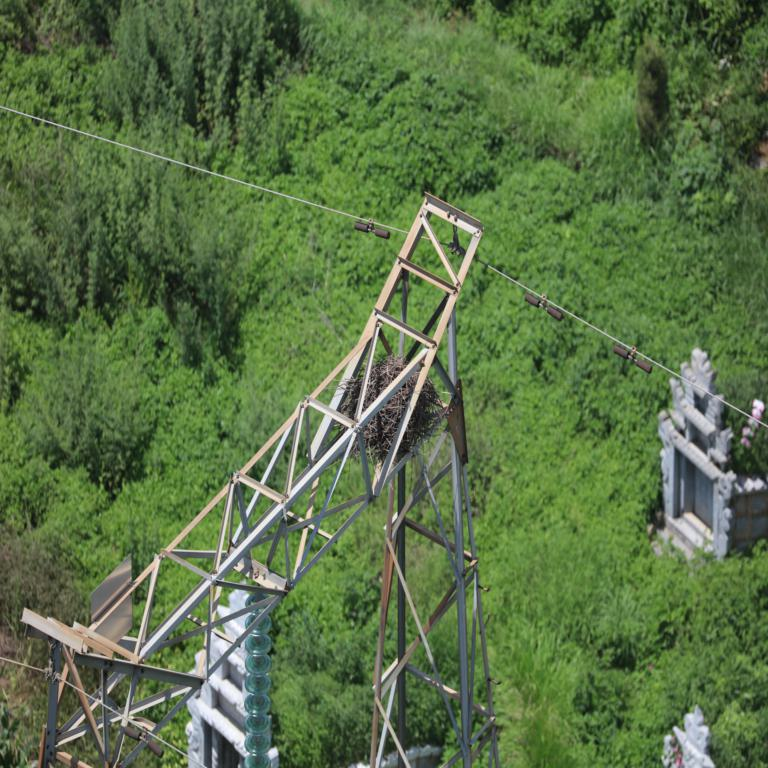nest: (342, 355, 437, 453)
